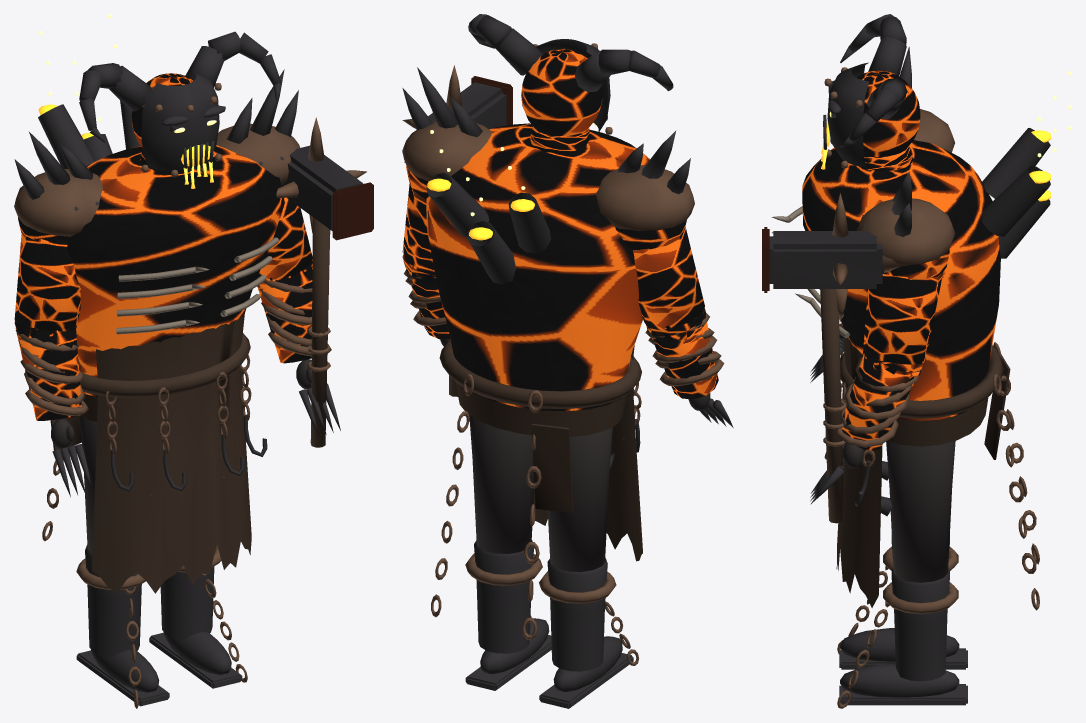
File: forgemaster.glb
The picture shows the model from 3 angles, left to right: view 1: azimuth 30°, elevation 25°; view 2: azimuth 150°, elevation 25°; view 3: azimuth 270°, elevation 25°; orthographic projection.
Parts seen in each view (by area): view 1: Forgemaster_Root_BurntLeather, Torso, Head_BlackIron, ArmA_MagmaSkin, Forgemaster_Root_RustIron, Forgemaster_Root_BlackIron, ArmB_MagmaSkin, LegA_BlackIron, LegB_BlackIron, ArmB_BlackIron, Forgemaster_Root_CharredBone, HammerHaft (+7 smaller); view 2: Torso, Forgemaster_Root_BurntLeather, ArmA_MagmaSkin, Forgemaster_Root_BlackIron, Forgemaster_Root_RustIron, LegA_BlackIron, LegLegB, LegB_BlackIron, LegLegA, Head_MagmaSkin, Head_BlackIron, ArmB_MagmaSkin (+8 smaller); view 3: Torso, ArmB_MagmaSkin, Forgemaster_Root_BurntLeather, LegB_BlackIron, LegLegB, Head_BlackIron, Forgemaster_Root_BlackIron, ArmB_BlackIron, Forgemaster_Root_RustIron, ArmB_RustIron, Head_MagmaSkin, HammerHaft (+7 smaller).
Part boxes in pixels (x1,y1,x2,y2): Forgemaster_Root_BurntLeather: (80, 313, 251, 593); Torso: (67, 145, 284, 396); Head_BlackIron: (79, 31, 281, 171); ArmA_MagmaSkin: (14, 217, 81, 420); Forgemaster_Root_RustIron: (14, 123, 300, 455); Forgemaster_Root_BlackIron: (14, 69, 298, 491); ArmB_MagmaSkin: (257, 182, 373, 363); LegA_BlackIron: (76, 494, 169, 706); LegB_BlackIron: (149, 476, 242, 688); ArmB_BlackIron: (282, 145, 363, 436); Forgemaster_Root_CharredBone: (116, 237, 278, 334); HammerHaft: (310, 217, 330, 447); Torso: (426, 123, 649, 411); Forgemaster_Root_BurntLeather: (439, 340, 642, 561); ArmA_MagmaSkin: (615, 220, 718, 399); Forgemaster_Root_BlackIron: (402, 67, 690, 452); Forgemaster_Root_RustIron: (402, 121, 694, 425); LegA_BlackIron: (539, 453, 633, 708); LegLegB: (469, 415, 534, 553); LegB_BlackIron: (465, 540, 551, 690); LegLegA: (547, 427, 612, 571); Head_MagmaSkin: (521, 48, 602, 153); Head_BlackIron: (468, 14, 673, 133); ArmB_MagmaSkin: (402, 76, 512, 339); Torso: (802, 140, 1000, 421); ArmB_MagmaSkin: (762, 227, 949, 450); Forgemaster_Root_BurntLeather: (836, 325, 1003, 607); LegB_BlackIron: (839, 490, 967, 705); LegLegB: (886, 441, 955, 582); Head_BlackIron: (823, 14, 907, 167); Forgemaster_Root_BlackIron: (824, 46, 1050, 506); ArmB_BlackIron: (769, 231, 882, 504); Forgemaster_Root_RustIron: (840, 109, 955, 466); ArmB_RustIron: (823, 193, 939, 447); Head_MagmaSkin: (856, 70, 920, 171); HammerHaft: (820, 289, 844, 523).
Size of the model in its own units: 0.9874 by 1.82 by 0.8099.
Materials: 10 (1 with a texture image).
